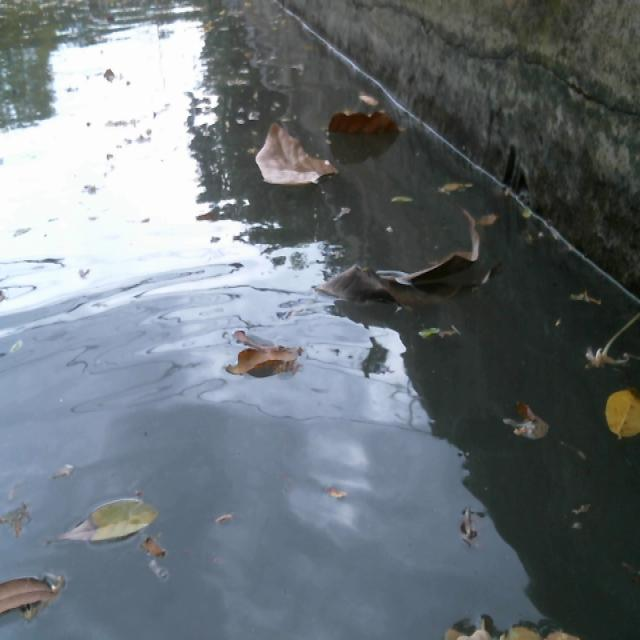Big-leaf: (312, 207, 486, 318), (245, 106, 352, 196), (225, 323, 307, 394), (322, 113, 412, 139)
Small-leaf: (68, 488, 158, 544), (0, 561, 83, 618), (597, 381, 640, 454), (450, 496, 487, 556), (2, 494, 46, 533), (145, 536, 182, 576), (417, 319, 465, 347), (328, 477, 363, 514), (562, 285, 605, 315), (356, 77, 389, 108), (437, 176, 479, 197), (383, 190, 418, 212), (483, 209, 510, 237), (212, 499, 237, 529)
